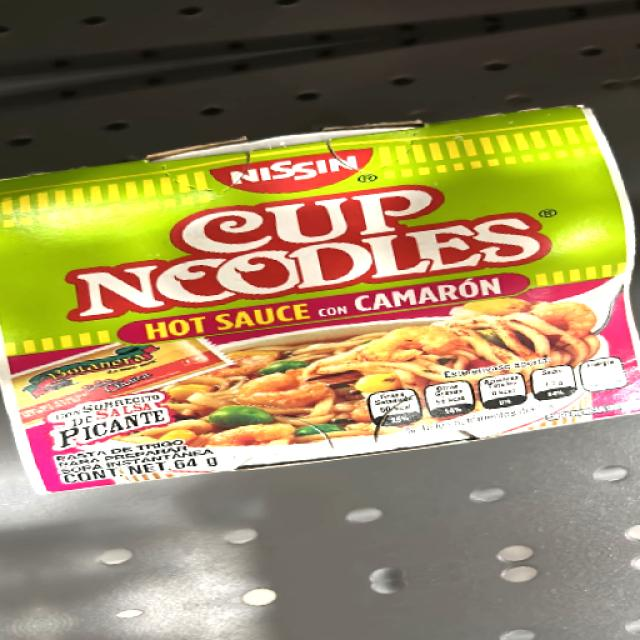nissinCamaron: (17, 160, 615, 447)
